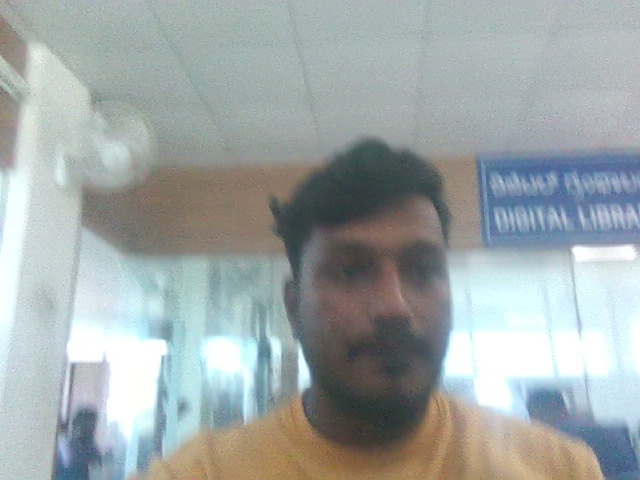real: (264, 121, 481, 428)
